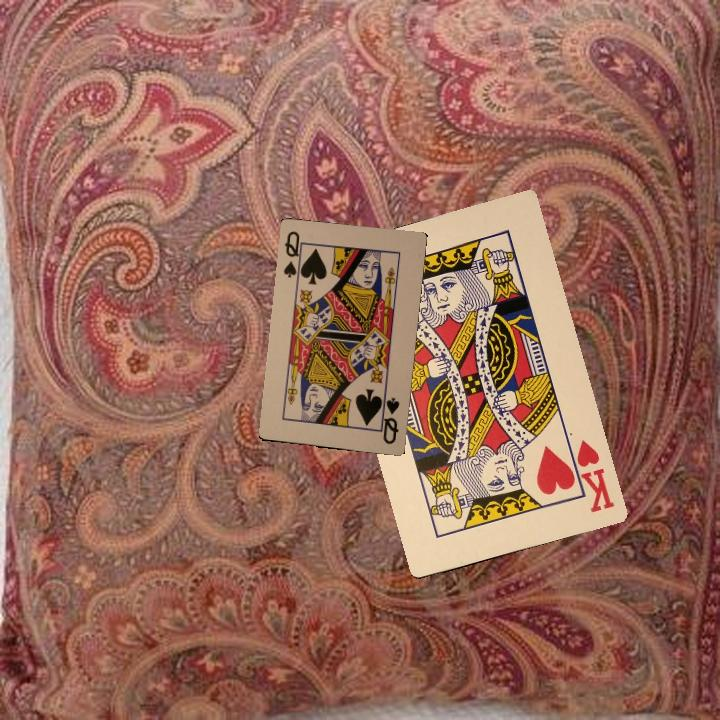Kh: (563, 435, 617, 515)
Qs: (279, 227, 308, 280), (376, 391, 402, 446)
